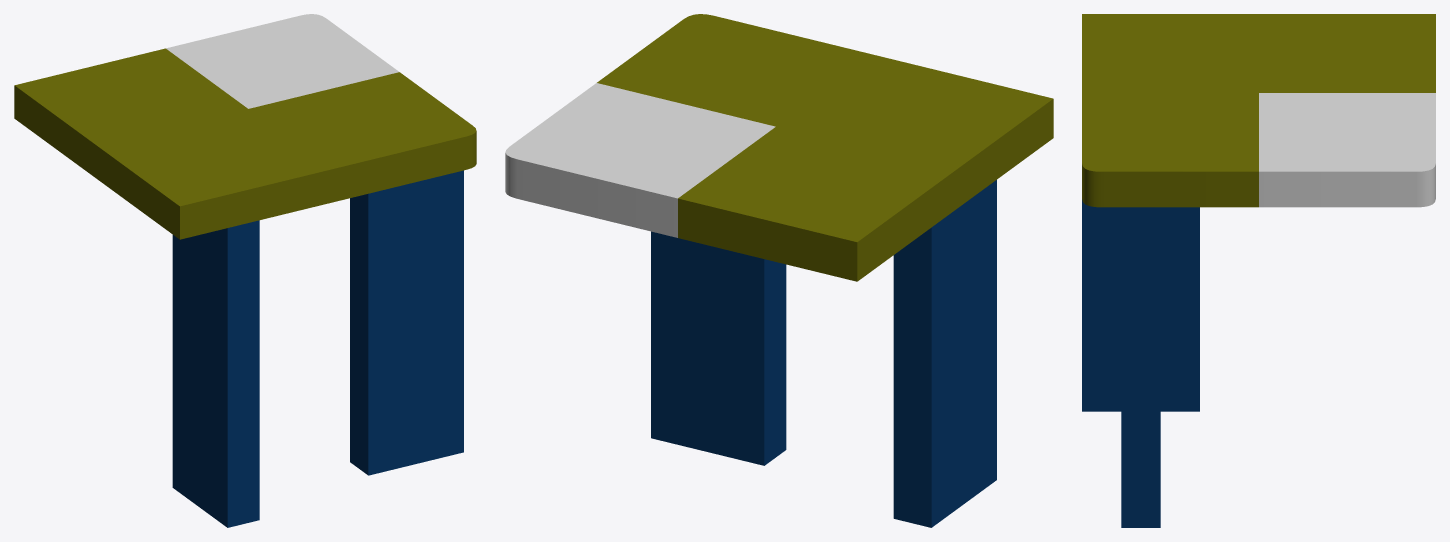
The model's file is T12DirR.fbx.
3 renders of one model, left to right at view 1: azimuth 30°, elevation 25°; view 2: azimuth 150°, elevation 25°; view 3: azimuth 270°, elevation 25°, orthographic. The views are drawn at different scales.
Visible parts, largest first — view 1: 1, 3, 4, 2; view 2: 3, 1, 4, 2; view 3: 1, 3, 2, 4.
Boxes of the visible parts, x1,y1,x2,y2 form: 1: [249, 72, 476, 475]; 3: [97, 109, 330, 527]; 4: [14, 48, 247, 178]; 2: [166, 14, 398, 108]; 3: [776, 55, 1053, 527]; 1: [597, 14, 873, 465]; 4: [678, 126, 955, 281]; 2: [505, 83, 775, 237]; 1: [1082, 93, 1258, 527]; 3: [1082, 14, 1258, 411]; 2: [1259, 93, 1435, 207]; 4: [1259, 14, 1435, 92].
Size of the model in its own units: 190 by 200 by 180.
